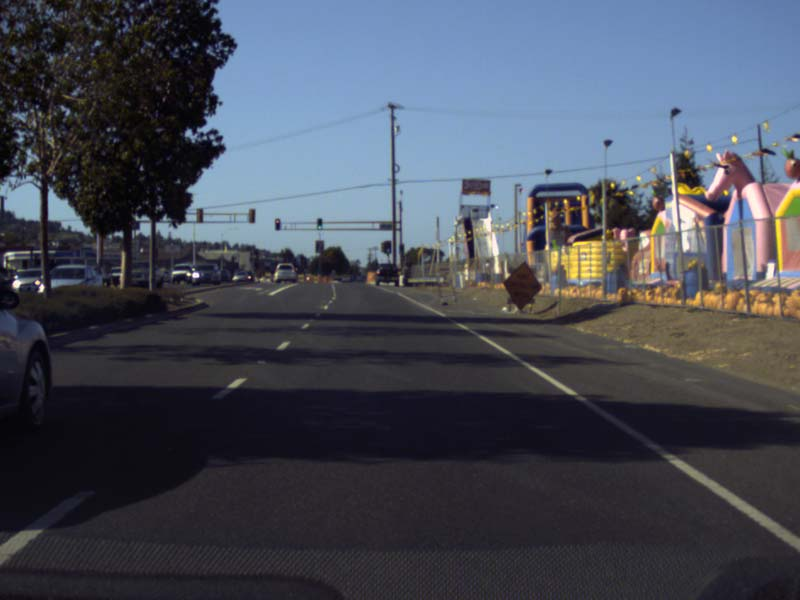Green: (317, 218, 321, 229), (386, 240, 389, 251)
Red: (275, 218, 279, 230)
